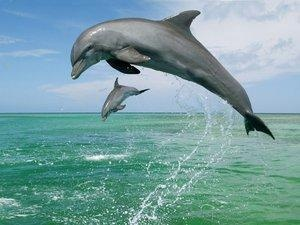fish: (68, 10, 276, 140), (101, 77, 151, 123)
